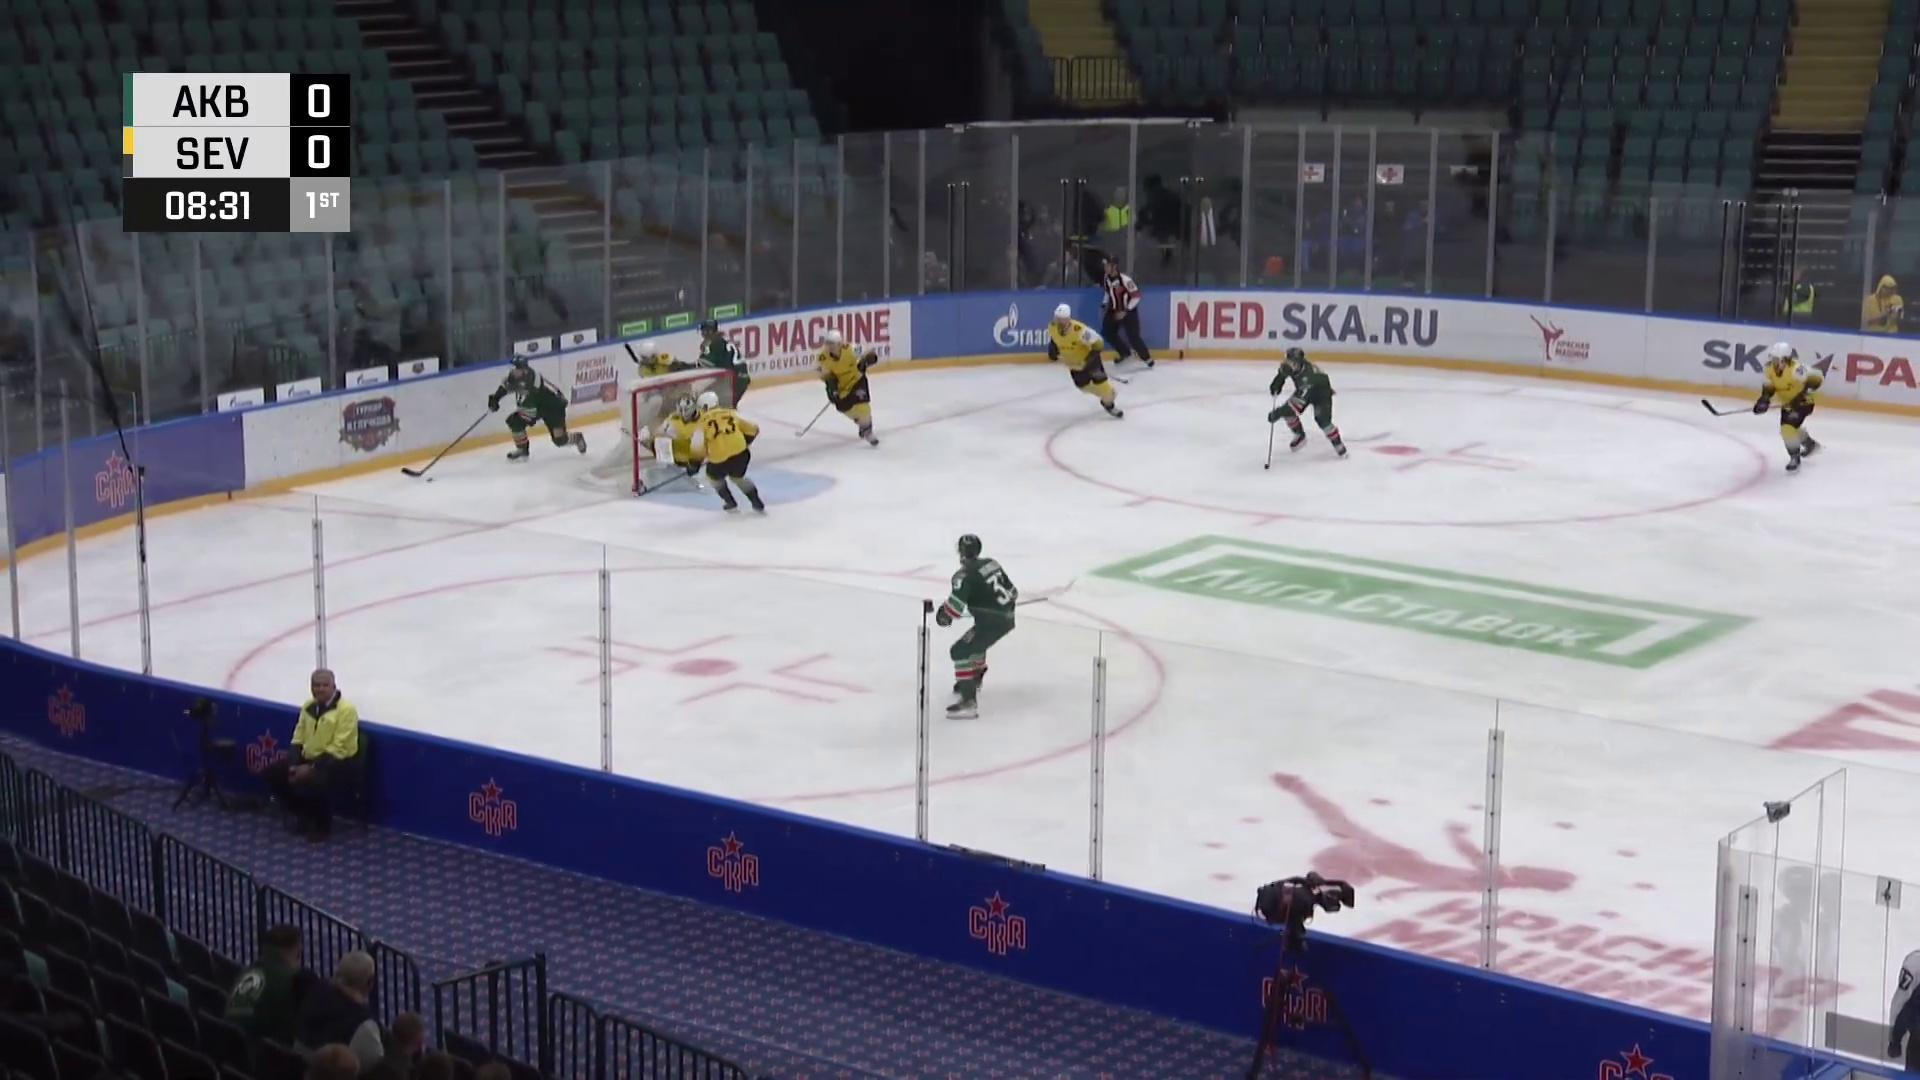ball: (425, 477, 434, 484)
